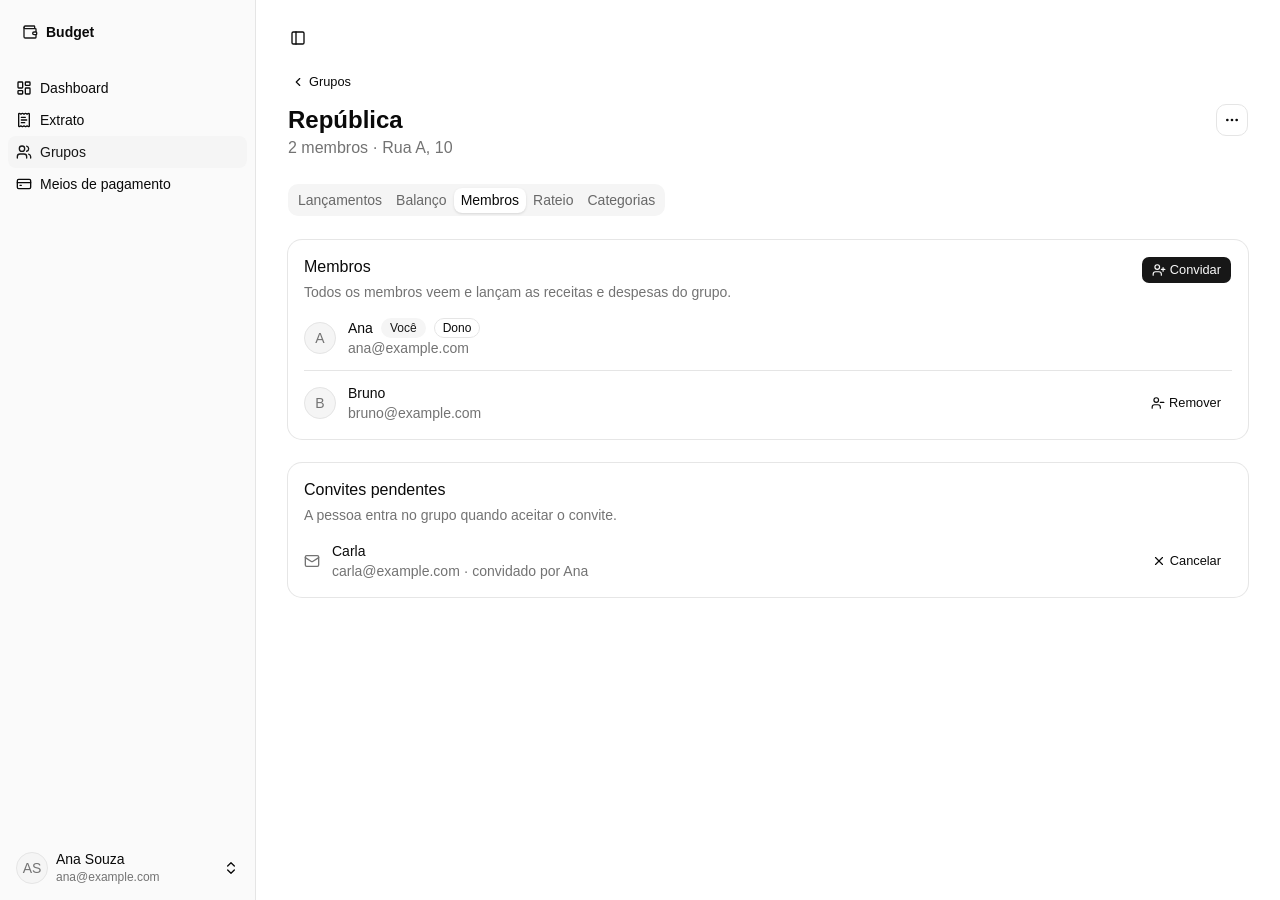
Test case: Group members (/grupos/$groupId?tab=membros) › pre-registers someone without an account under a nickname
Expected: the heading "República" is shown, left=288, top=106, right=403, bottom=133
Click the button "Convidar": (1186, 270) left=1141, top=256, right=1232, bottom=284
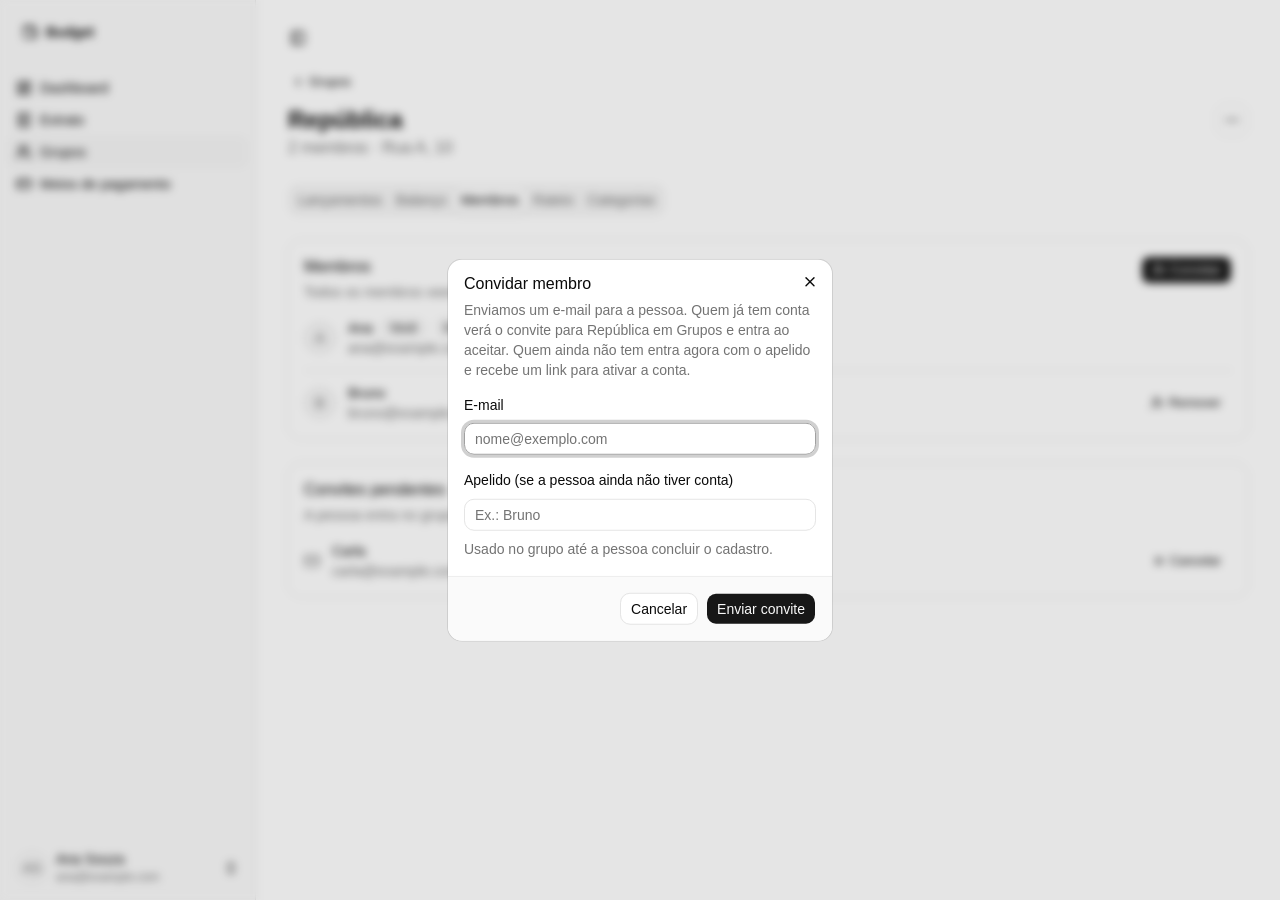
In the field labelled "E-mail": (640, 439) left=464, top=423, right=816, bottom=455, type "diego@example.com"
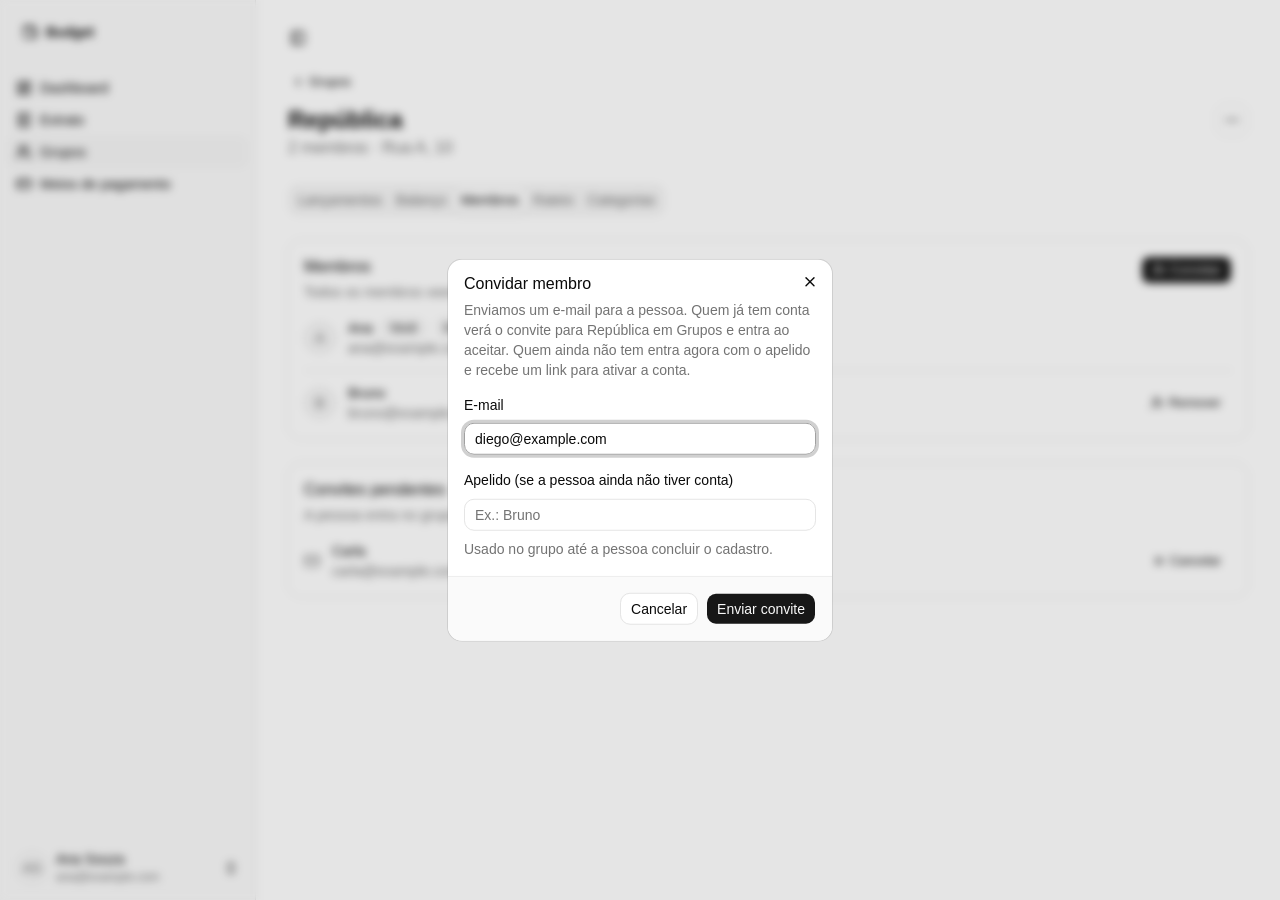
Click the button "Enviar convite": (761, 608) left=706, top=592, right=816, bottom=624
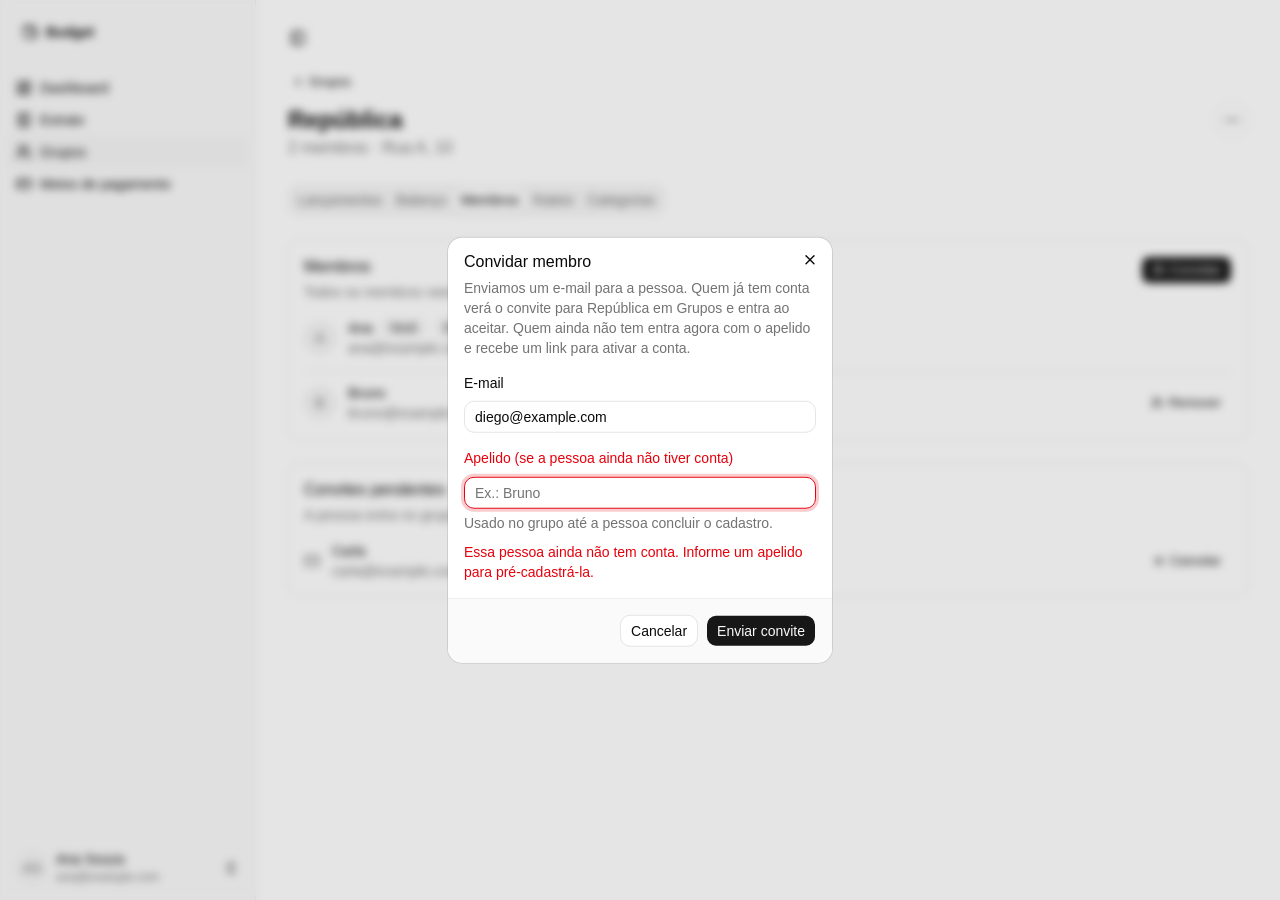
Expected: the text "Essa pessoa ainda não tem conta. Informe um apelido para pré-cadastrá-la." is shown, left=464, top=541, right=816, bottom=581
In the field labelled "Apelido (se a pessoa ainda não tiver conta)": (640, 492) left=464, top=476, right=816, bottom=508, type " Didi "
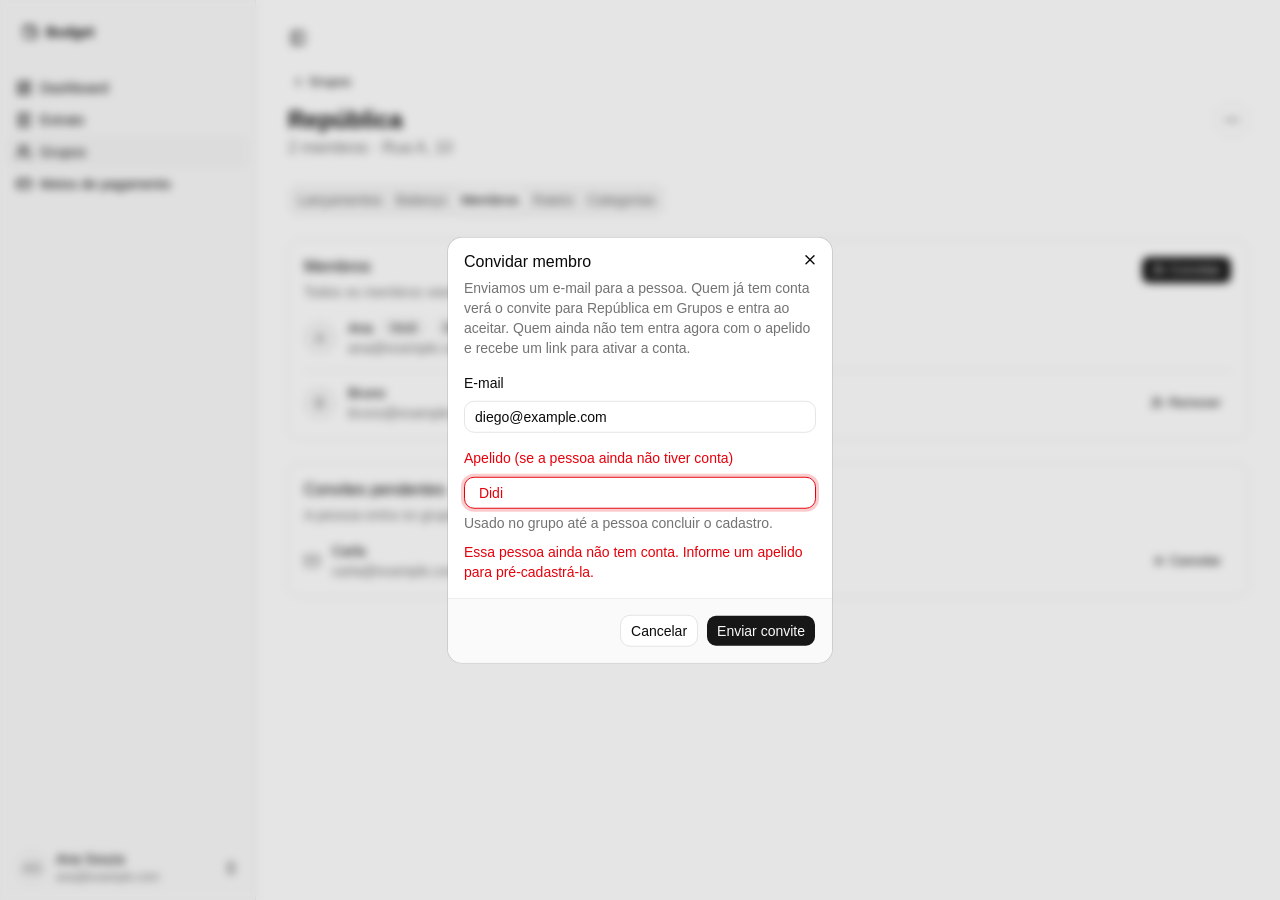
Click the button "Enviar convite": (761, 630) left=706, top=614, right=816, bottom=646
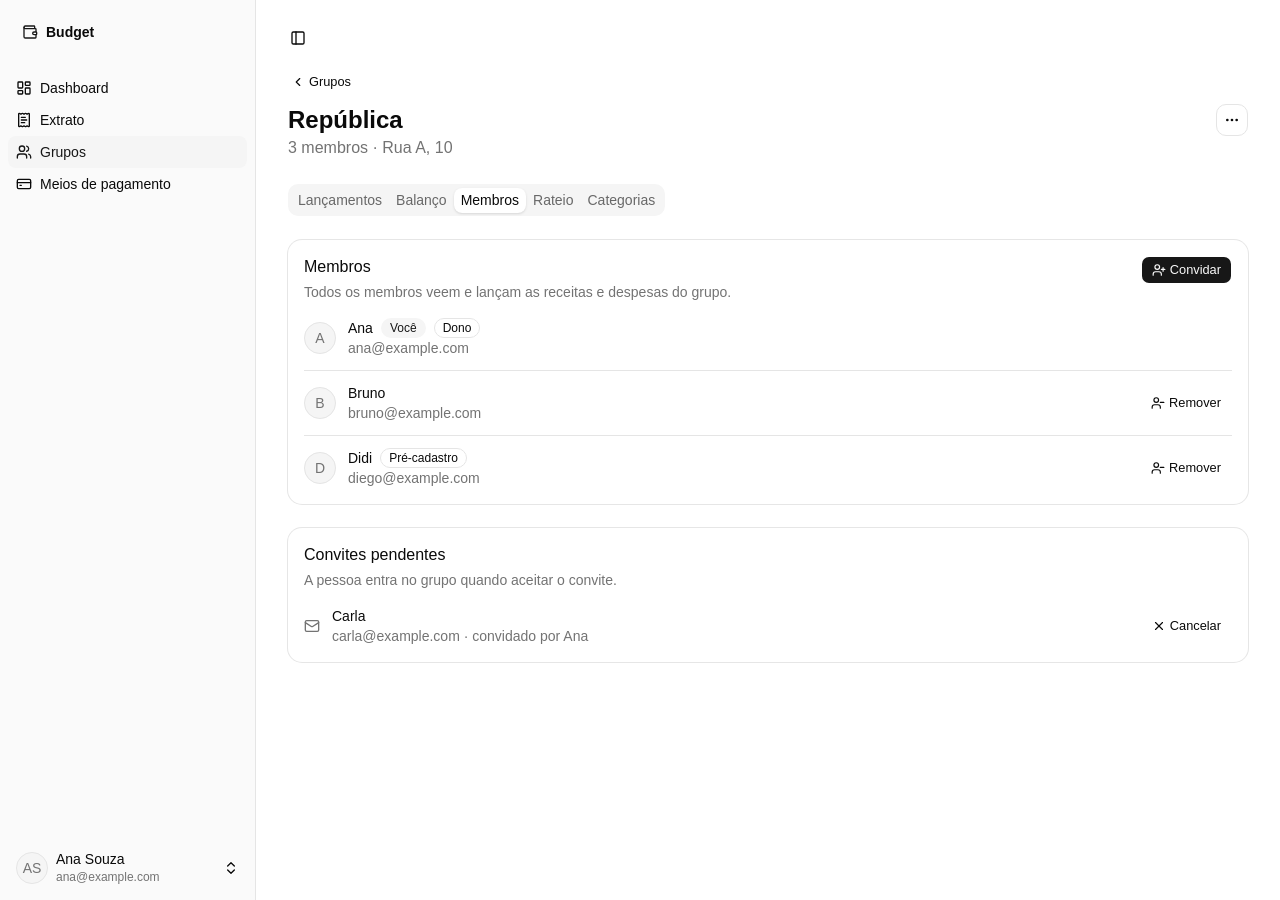
Expected: the list item "Bruno" does not show "Pré-cadastro", left=304, top=371, right=1232, bottom=436
Expected: the dialog is gone
Expected: the list item "Didi" shows "Pré-cadastro", left=389, top=451, right=458, bottom=465
